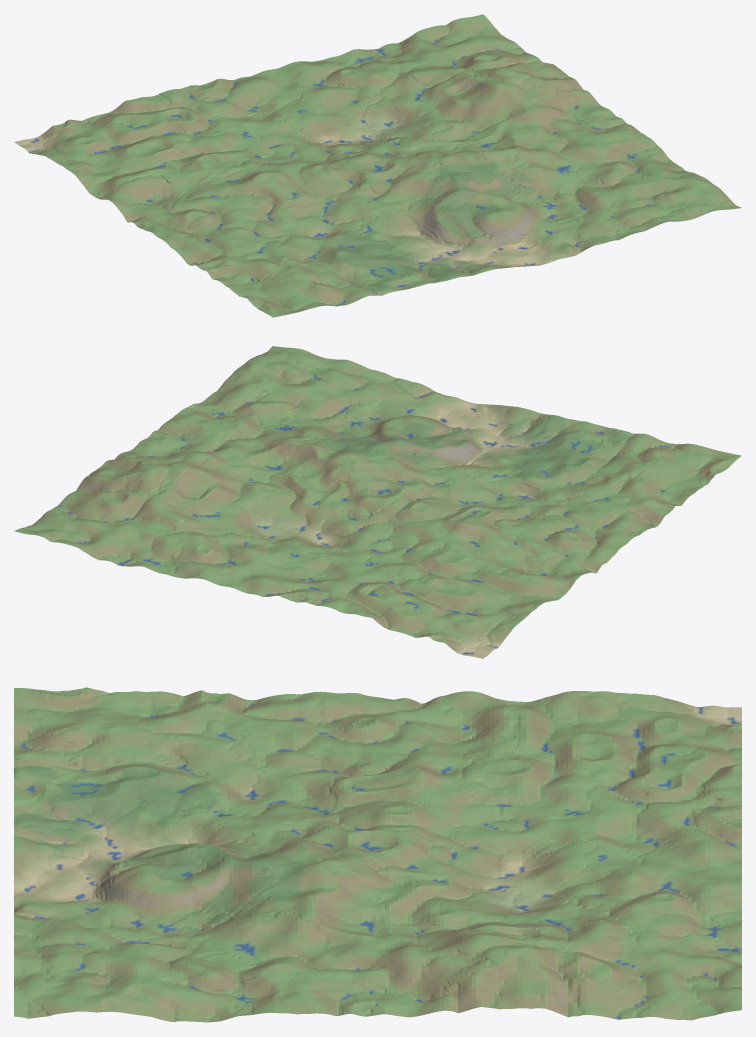
Rendered from cave-world-2.glb.
The picture shows the model from 3 angles, top to bottom: view 1: azimuth 30°, elevation 25°; view 2: azimuth 150°, elevation 25°; view 3: azimuth 270°, elevation 25°; orthographic projection. The views are drawn at different scales.
Parts seen in each view (by area): view 1: terrain; view 2: terrain; view 3: terrain.
Part boxes in pixels (x1=…): terrain: x1=14, y1=14, x2=741, y2=317; terrain: x1=14, y1=346, x2=741, y2=658; terrain: x1=14, y1=687, x2=741, y2=1022.
Size of the model in its own units: 4000 by 249 by 3824.
